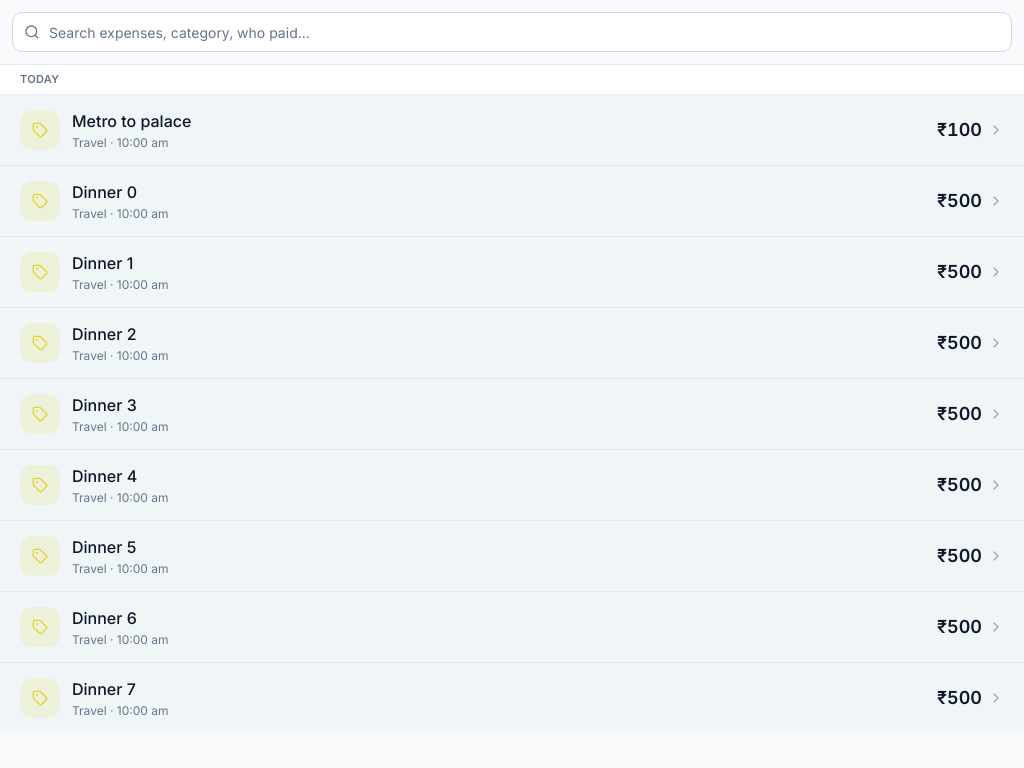
Test: TransactionList search summary › says nothing when the search has no matches
Type "flight" into the field with placeholder "Search expenses, category, who paid…" at (512, 32), box x1=12 y1=12 x2=1012 y2=52
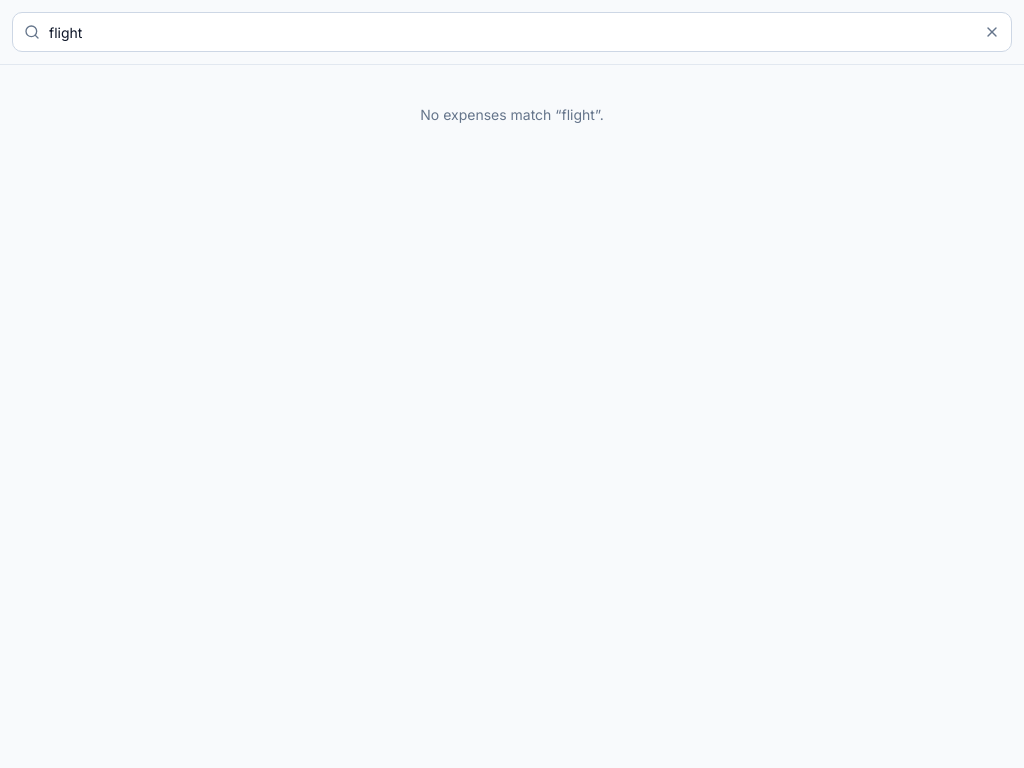
Expected: the text "No expenses match “flight”." is shown, x1=420 y1=106 x2=604 y2=123
